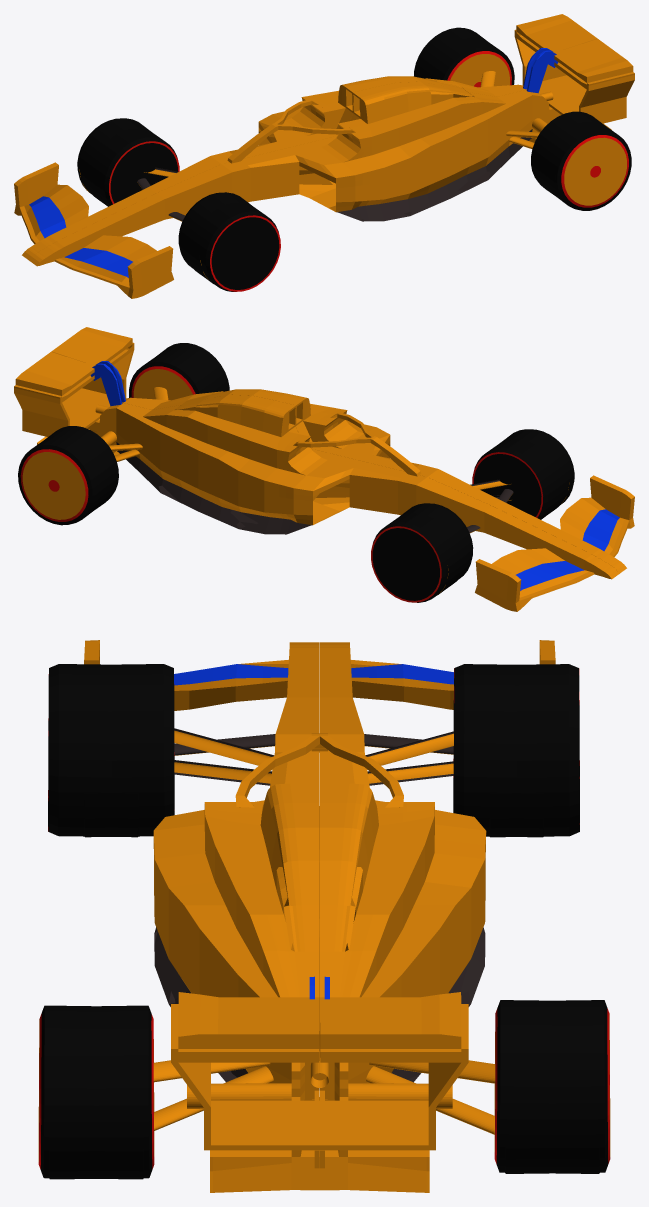
The model's file is mclaren.gltf.
3 renders of one model, top to bottom at view 1: azimuth 30°, elevation 25°; view 2: azimuth 150°, elevation 25°; view 3: azimuth 270°, elevation 25°, orthographic. The views are drawn at different scales.
Parts seen in each view (by area): view 1: Car Body, Front Wheel.002, Back Wheels, Front Wheel.001, Back Wheels.001; view 2: Car Body, Front Wheel.001, Back Wheels.001, Front Wheel.002, Back Wheels; view 3: Car Body, Front Wheel.002, Front Wheel.001, Back Wheels.001, Back Wheels.
Boxes of the visible parts, left/top/right/bottom form: Car Body: left=14, top=14, right=634, bottom=298; Front Wheel.002: left=178, top=192, right=280, bottom=291; Back Wheels: left=531, top=111, right=631, bottom=210; Front Wheel.001: left=77, top=118, right=179, bottom=206; Back Wheels.001: left=414, top=27, right=514, bottom=87; Car Body: left=14, top=327, right=634, bottom=611; Front Wheel.001: left=371, top=503, right=473, bottom=602; Back Wheels.001: left=18, top=426, right=118, bottom=525; Front Wheel.002: left=472, top=429, right=574, bottom=519; Back Wheels: left=129, top=343, right=229, bottom=400; Car Body: left=84, top=640, right=555, bottom=1192; Front Wheel.002: left=48, top=664, right=174, bottom=837; Front Wheel.001: left=453, top=664, right=579, bottom=837; Back Wheels.001: left=494, top=1000, right=610, bottom=1173; Back Wheels: left=38, top=1005, right=154, bottom=1179.
Bounding box in the file's own units: 4.67 × 0.8602 × 2.03.
